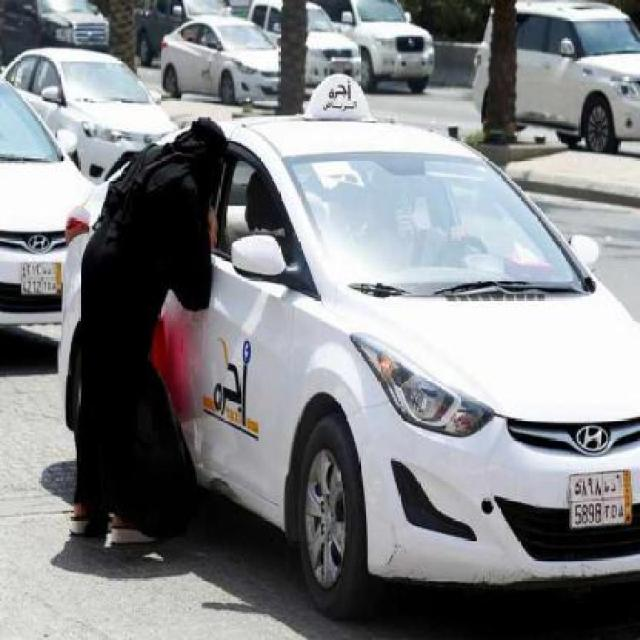license_plate: (568, 465, 635, 530)
